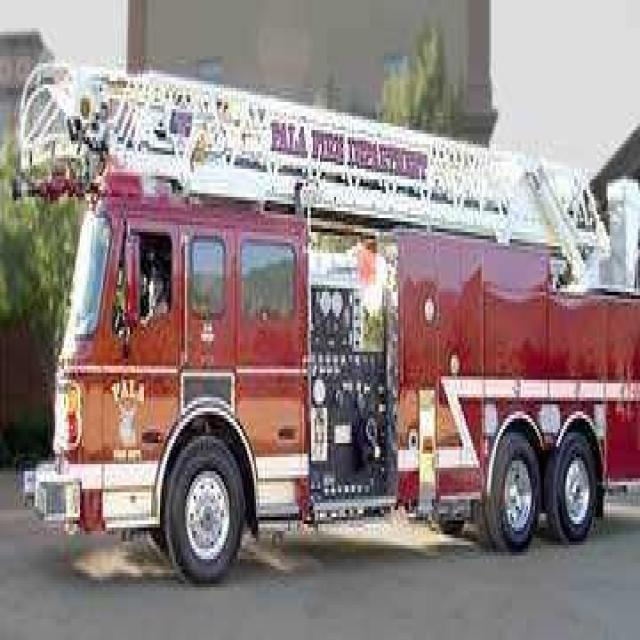ambulance: (19, 53, 640, 605)
